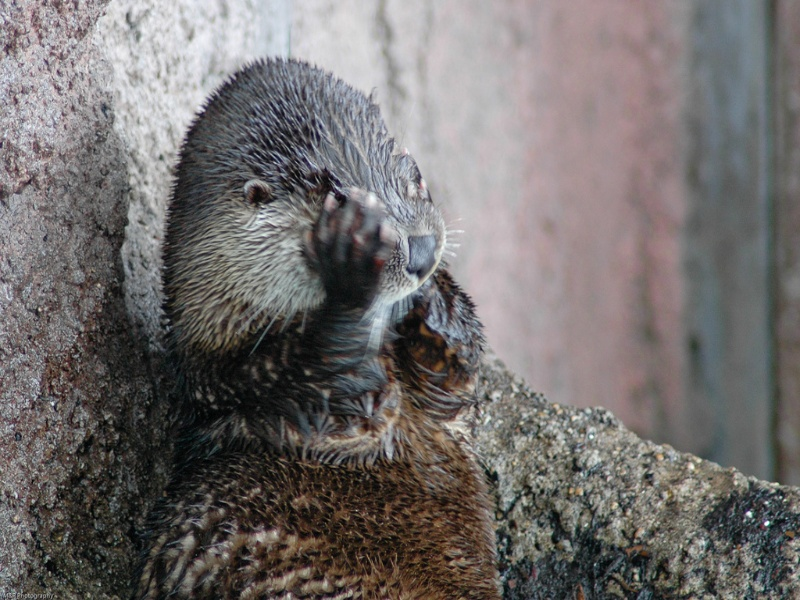minkish: (155, 49, 504, 594)
